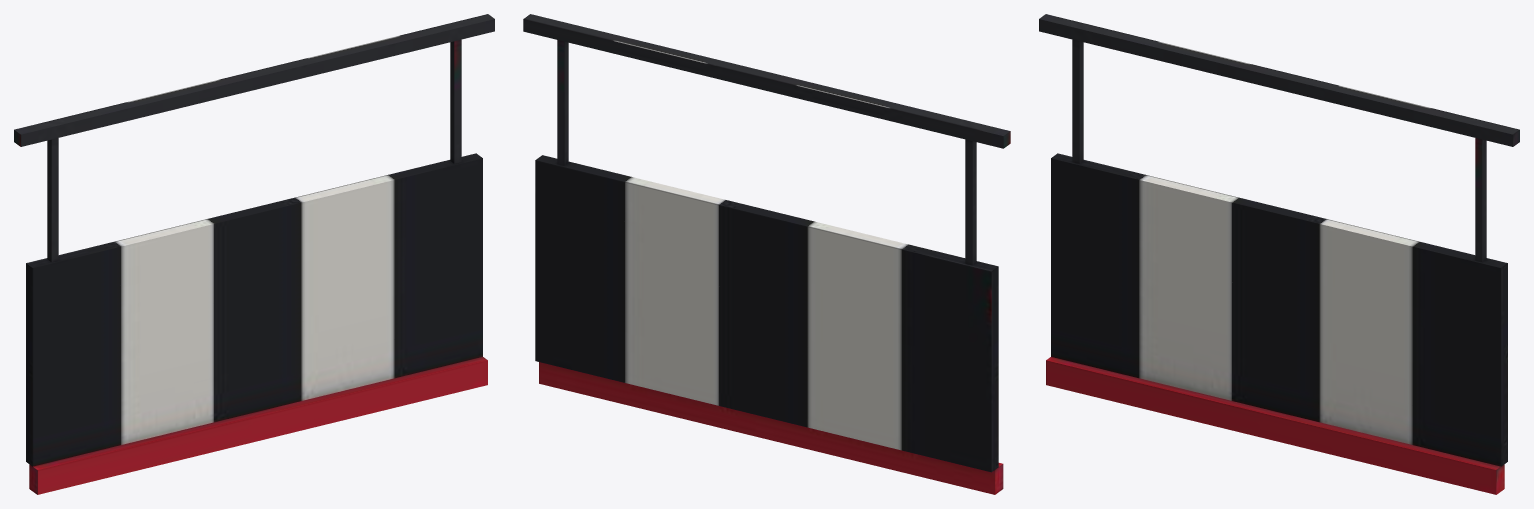
File: bandera_cuadros.glb
3 renders of one model, left to right at view 1: azimuth 30°, elevation 25°; view 2: azimuth 150°, elevation 25°; view 3: azimuth 330°, elevation 25°, orthographic.
Parts seen in each view (by area): view 1: bandera_cuadros; view 2: bandera_cuadros; view 3: bandera_cuadros.
Part boxes in pixels (x1,y1,x2,y2): bandera_cuadros: [14, 14, 494, 494]; bandera_cuadros: [523, 14, 1010, 494]; bandera_cuadros: [1039, 14, 1519, 494].
Size of the model in its own units: 2 by 1.45 by 0.085.
1 material, 1 textured.
